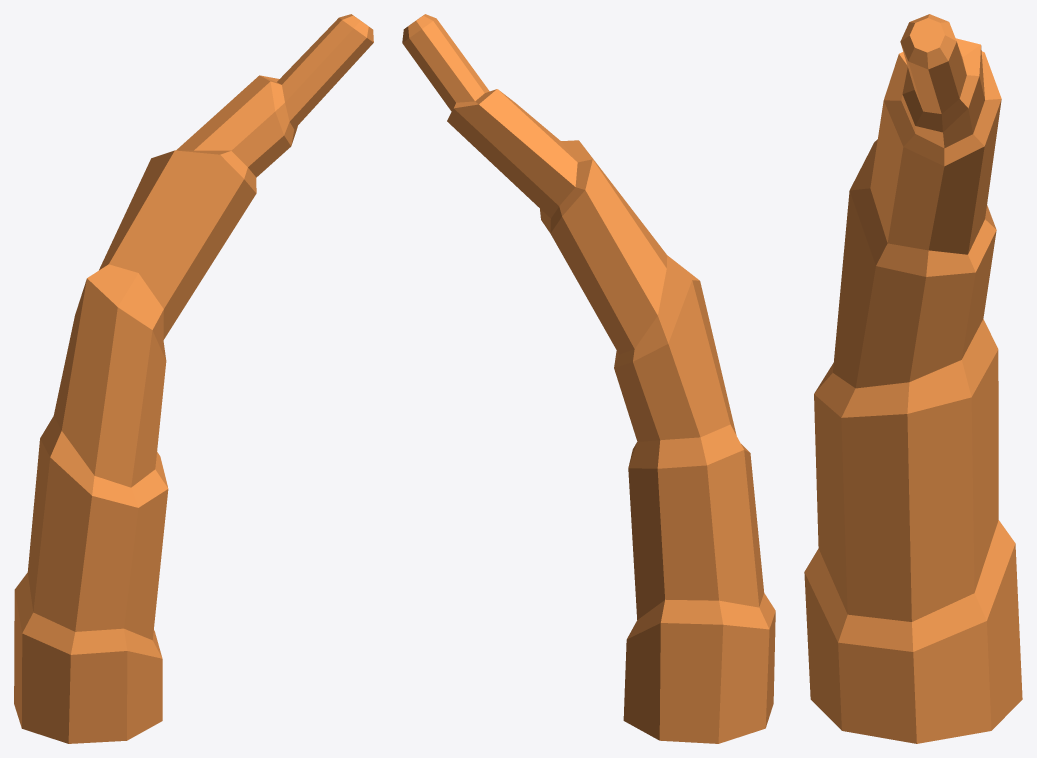
The model's file is TreeTrunk_51.fbx.
3 renders of one model, left to right at view 1: azimuth 30°, elevation 25°; view 2: azimuth 150°, elevation 25°; view 3: azimuth 270°, elevation 25°, orthographic. The views are drawn at different scales.
Visible parts, largest first — view 1: TreeTrunk_51; view 2: TreeTrunk_51; view 3: TreeTrunk_51.
Part boxes in pixels (left/top/right/bottom): TreeTrunk_51: left=14, top=14, right=373, bottom=743; TreeTrunk_51: left=402, top=14, right=775, bottom=743; TreeTrunk_51: left=804, top=14, right=1022, bottom=743.
Bounding box in the file's own units: 166 × 282 × 64.61.
